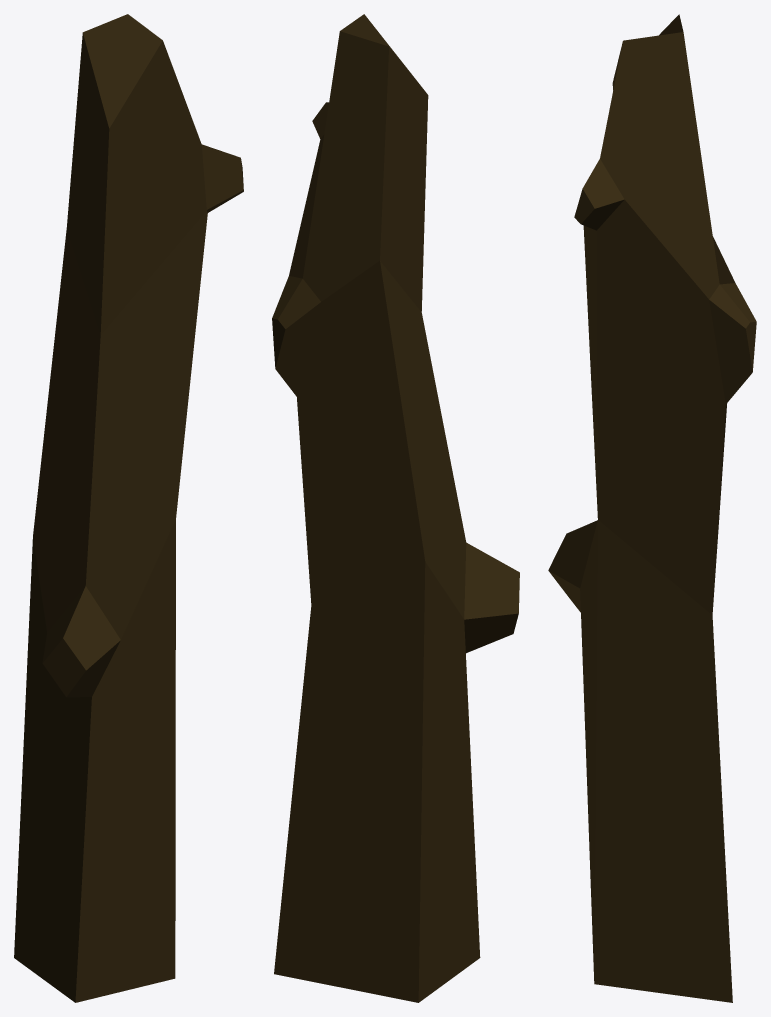
The model's file is DeadTree.fbx.
3 renders of one model, left to right at view 1: azimuth 30°, elevation 25°; view 2: azimuth 150°, elevation 25°; view 3: azimuth 270°, elevation 25°, orthographic.
Parts seen in each view (by area): view 1: DeadTree; view 2: DeadTree; view 3: DeadTree.
Part boxes in pixels (x1,y1,x2,y2): DeadTree: [14, 14, 243, 1002]; DeadTree: [272, 14, 519, 1002]; DeadTree: [548, 14, 756, 1002].
Size of the model in its own units: 0.6231 by 2.74 by 0.5442.
